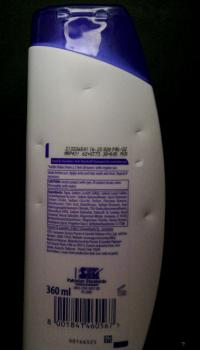dent_marginal: (79, 82, 102, 94), (131, 124, 147, 140), (140, 208, 156, 223), (32, 195, 45, 209), (131, 156, 145, 168), (33, 140, 45, 151)
